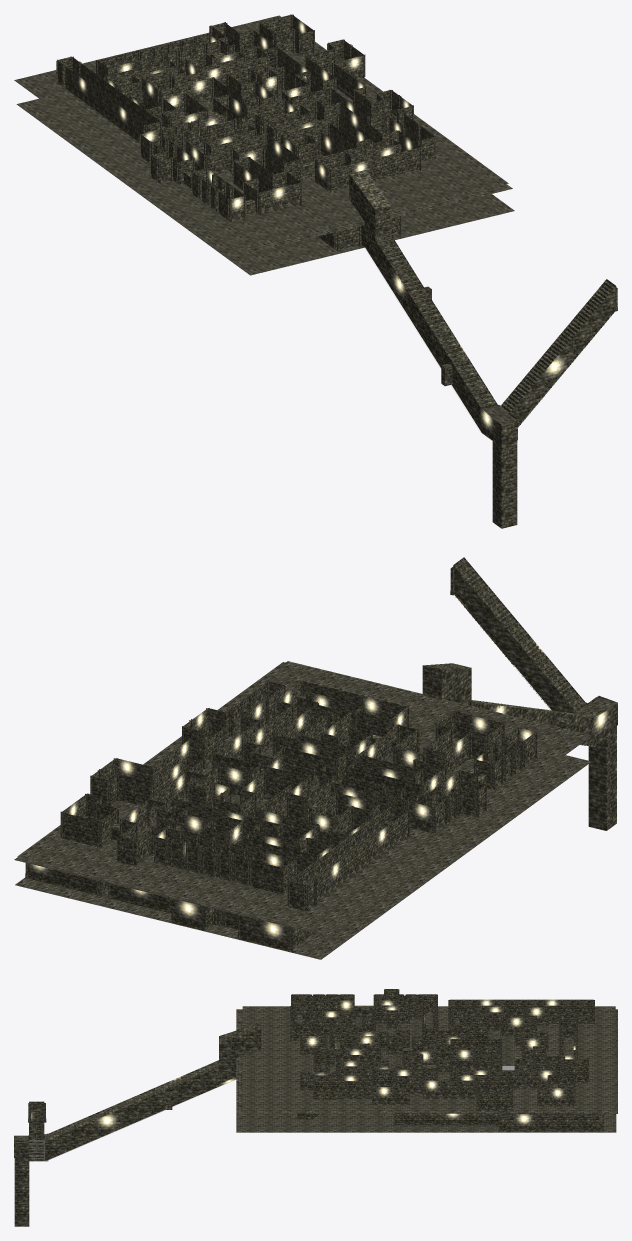
The model's file is 002_zennkiseisaku_meiro2_01_35.fbx.
The picture shows the model from 3 angles, top to bottom: view 1: azimuth 30°, elevation 25°; view 2: azimuth 150°, elevation 25°; view 3: azimuth 270°, elevation 25°; orthographic projection. The views are drawn at different scales.
Visible parts, largest first — view 1: kabe_1kai, yuka_2kai, yuka_1kai, hasira, tenjou_kaidann, tenjou_kaidann2, tenjou_1kai; view 2: kabe_1kai, yuka_2kai, hasira, yuka_1kai, tenjou_kaidann2, tenjou_1kai, saku; view 3: kabe_1kai, yuka_2kai, yuka_1kai, hasira, tenjou_1kai, tenjou_kaidann, kaidann, suro-pu.
Part boxes in pixels (x1,y1,x2,y2): kabe_1kai: (57,14,616,528); yuka_2kai: (14,15,508,248); yuka_1kai: (16,99,514,275); hasira: (56,14,435,250); tenjou_kaidann: (375,235,496,408); tenjou_kaidann2: (502,281,614,411); tenjou_1kai: (244,114,512,252); kabe_1kai: (27,557,617,951); yuka_2kai: (17,662,589,931); hasira: (25,680,537,951); yuka_1kai: (15,755,591,959); tenjou_kaidann2: (455,560,585,711); tenjou_1kai: (14,661,591,934); saku: (146,567,454,826); kabe_1kai: (14,989,602,1226); yuka_2kai: (242,1006,615,1111); yuka_1kai: (236,1038,616,1132); hasira: (290,989,603,1131); tenjou_1kai: (236,1009,617,1113); tenjou_kaidann: (48,1062,218,1139); kaidann: (28,1035,573,1161); suro-pu: (29,1079,320,1160).
Size of the model in its own units: 972 by 847 by 2341.
